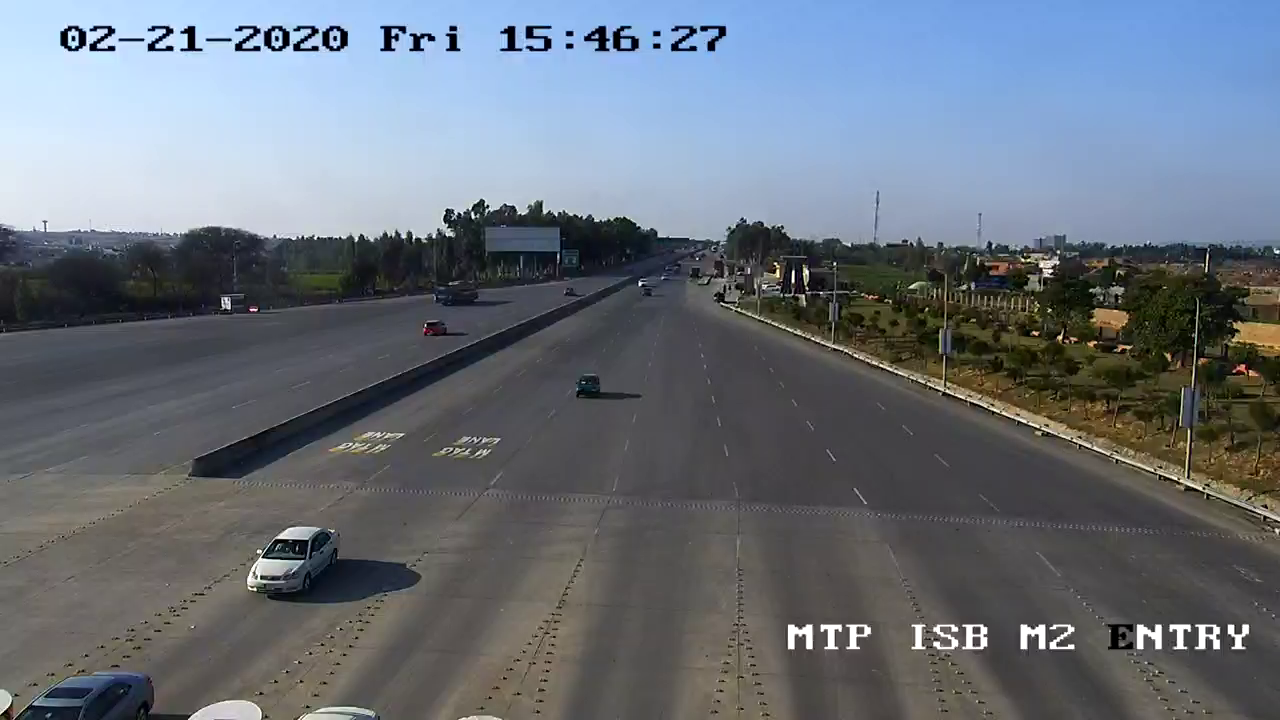f1: (234, 518, 345, 609)
